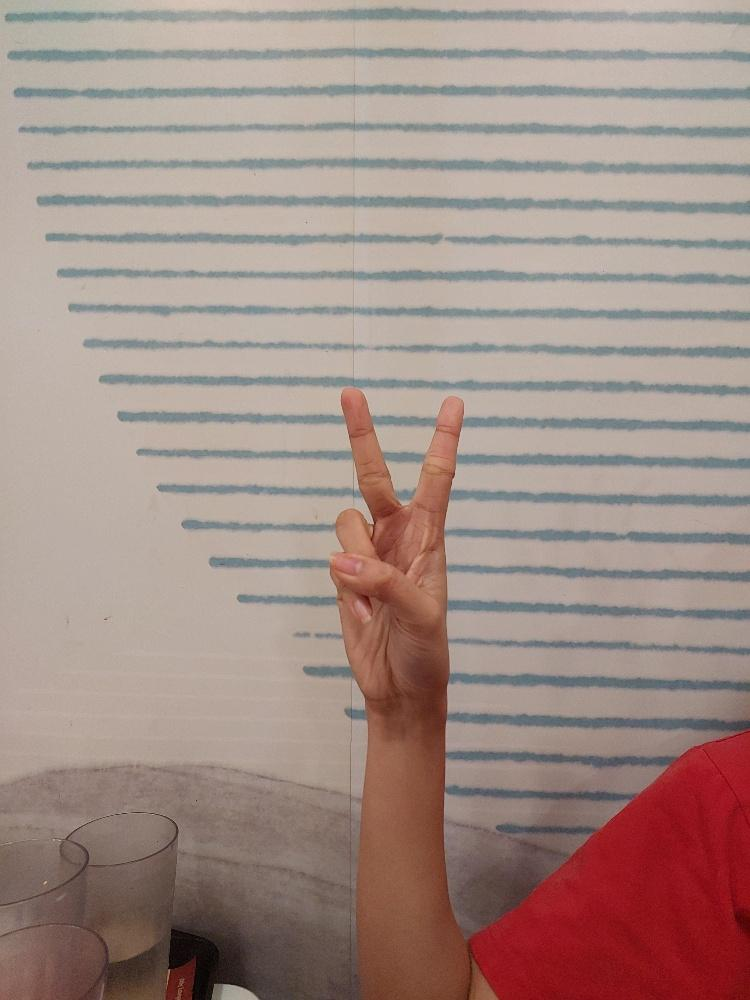v: (326, 383, 466, 702)
